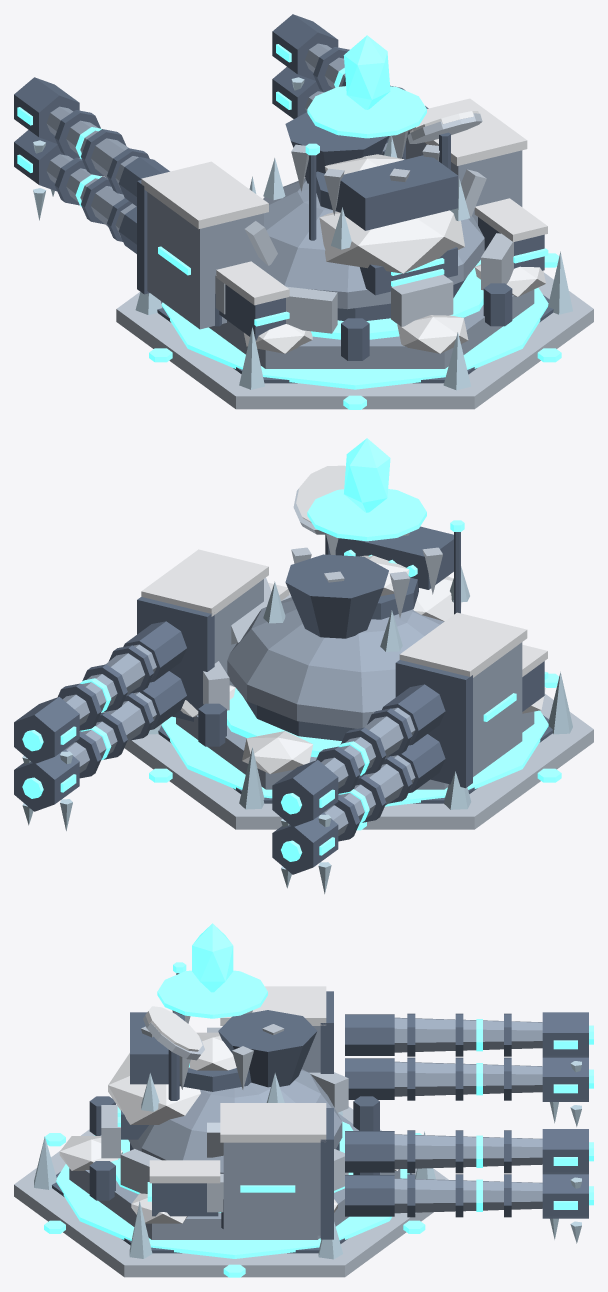
Rendered from turret_lvl8.glb.
3 views of the same model, one above another, from view 1: azimuth 30°, elevation 25°; view 2: azimuth 150°, elevation 25°; view 3: azimuth 270°, elevation 25° (orthographic). The views are drawn at different scales.
Visible parts, largest first — view 1: BaseTier_81, PodBody_07, Dome_05, Neon_BaseRing2_111, MissileRack_98, Base_01, SnowBlanket_112, SnowPod_129, Neon_CoreRing_110, SnowPod_130, PodBody_34, CentreSensor_61 (+43 smaller); view 2: Dome_05, BaseTier_81, CentreSensor_61, SnowPod_130, SnowPod_129, PodPlate_08, PodBody_07, Neon_BaseRing2_111, Neon_CoreRing_110, PodPlate_35, MissileRack_98, MuzzleBrake_28 (+37 smaller); view 3: BaseTier_81, PodBody_34, Dome_05, Neon_BaseRing2_111, CentreSensor_61, SnowPod_130, Neon_CoreRing_110, BarrelTube_38, BarrelTube_23, BarrelTube_50, BarrelTube_11, Base_01 (+37 smaller).
Part boxes in pixels (left/top/right/bottom): BaseTier_81: left=116, top=272, right=593, bottom=409; PodBody_07: left=147, top=192, right=263, bottom=329; Dome_05: left=254, top=178, right=484, bottom=309; Neon_BaseRing2_111: left=161, top=287, right=548, bottom=389; MissileRack_98: left=336, top=155, right=458, bottom=230; Base_01: left=209, top=289, right=534, bottom=368; SnowBlanket_112: left=319, top=210, right=464, bottom=273; SnowPod_129: left=141, top=161, right=268, bottom=229; Neon_CoreRing_110: left=307, top=86, right=426, bottom=138; SnowPod_130: left=408, top=98, right=527, bottom=165; PodBody_34: left=406, top=131, right=522, bottom=224; CentreSensor_61: left=285, top=112, right=388, bottom=183; Dome_05: left=227, top=597, right=444, bottom=728; BaseTier_81: left=124, top=694, right=593, bottom=829; CentreSensor_61: left=285, top=554, right=388, bottom=638; SnowPod_130: left=141, top=549, right=268, bottom=616; SnowPod_129: left=399, top=612, right=527, bottom=677; PodPlate_08: left=395, top=660, right=472, bottom=788; PodBody_07: left=473, top=642, right=522, bottom=776; Neon_BaseRing2_111: left=161, top=710, right=548, bottom=806; Neon_CoreRing_110: left=307, top=489, right=426, bottom=541; PodPlate_35: left=137, top=597, right=214, bottom=721; MissileRack_98: left=335, top=526, right=453, bottom=589; MuzzleBrake_28: left=272, top=760, right=338, bottom=826; BaseTier_81: left=14, top=1106, right=448, bottom=1277; PodBody_34: left=223, top=1142, right=320, bottom=1235; Dome_05: left=128, top=1069, right=342, bottom=1173; Neon_BaseRing2_111: left=56, top=1135, right=409, bottom=1258; CentreSensor_61: left=218, top=1010, right=317, bottom=1087; SnowPod_130: left=220, top=1103, right=326, bottom=1142; Neon_CoreRing_110: left=157, top=970, right=267, bottom=1018; BarrelTube_38: left=394, top=1178, right=542, bottom=1213; BarrelTube_23: left=394, top=1017, right=542, bottom=1052; BarrelTube_50: left=394, top=1134, right=542, bottom=1169; BarrelTube_11: left=394, top=1061, right=542, bottom=1096; Base_01: left=69, top=1113, right=400, bottom=1239.
Size of the model in its own units: 6.29 by 4.37 by 8.41.
